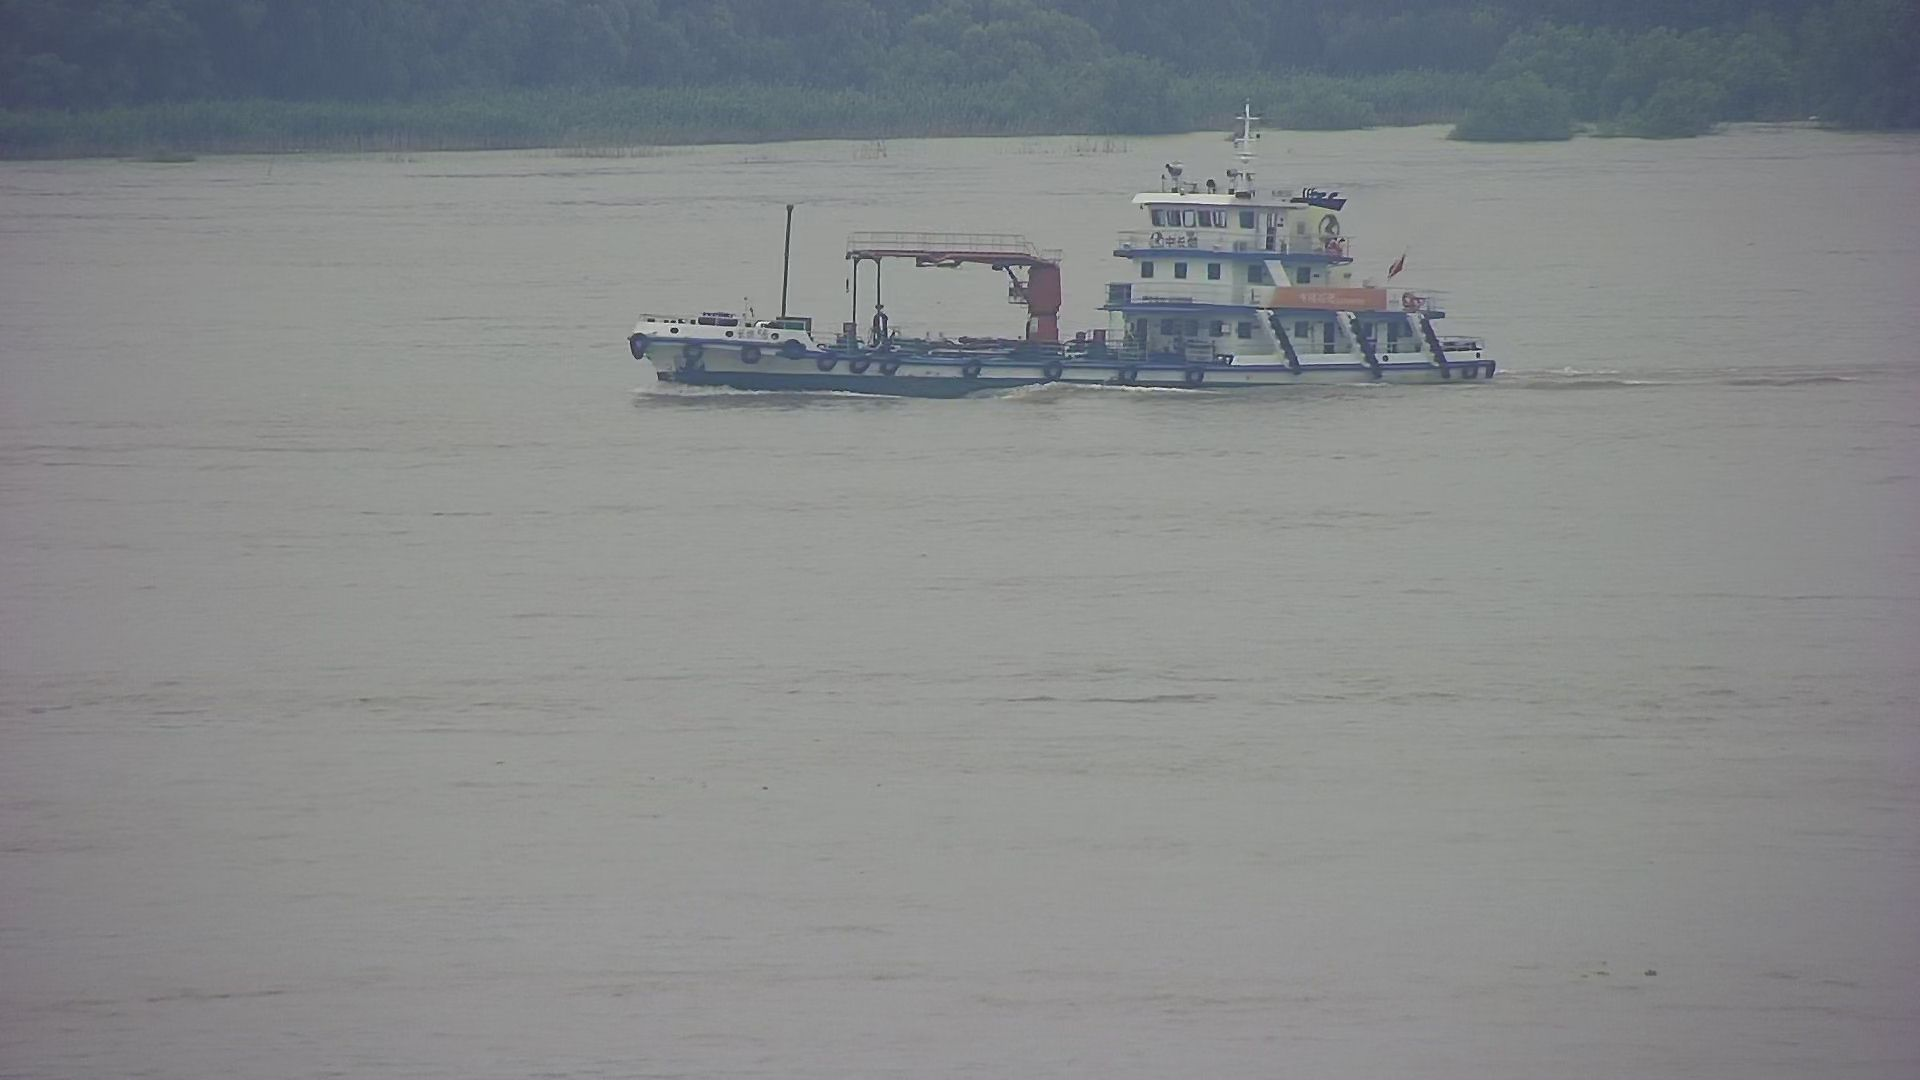ship: (597, 94, 1534, 417)
